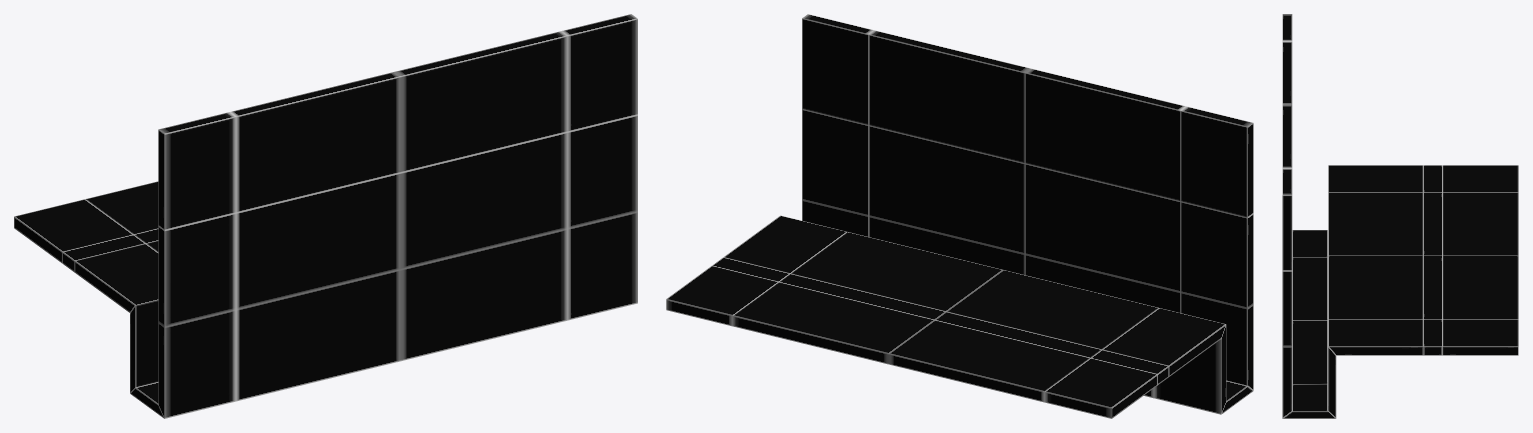
The model's file is Butai.fbx.
The picture shows the model from 3 angles, left to right: view 1: azimuth 30°, elevation 25°; view 2: azimuth 150°, elevation 25°; view 3: azimuth 270°, elevation 25°; orthographic projection. The views are drawn at different scales.
Parts seen in each view (by area): view 1: butai; view 2: butai; view 3: butai.
Part boxes in pixels (left/top/right/bottom): butai: left=14, top=14, right=637, bottom=418; butai: left=666, top=14, right=1253, bottom=418; butai: left=1282, top=14, right=1518, bottom=418.
Bounding box in the file's own units: 36.01 × 20.7 × 19.85.
2 materials, 2 textured.
